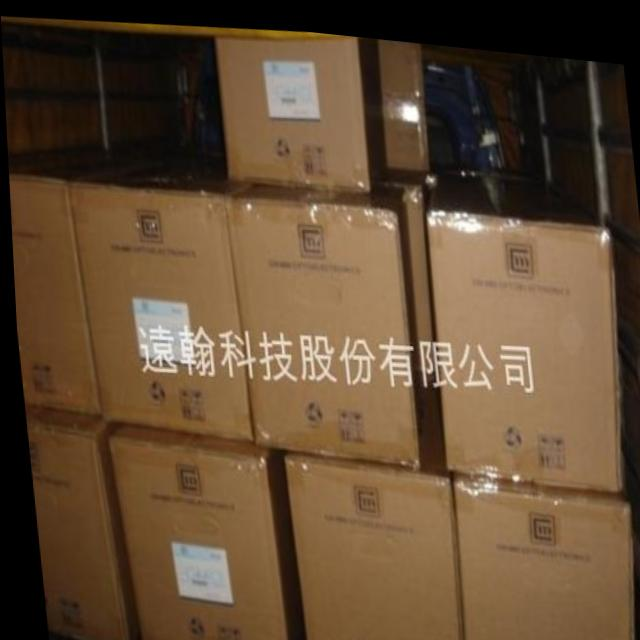box: (224, 173, 444, 464), (423, 163, 620, 481), (66, 148, 250, 438), (7, 146, 178, 418), (99, 420, 301, 640), (279, 447, 456, 640), (447, 464, 629, 640), (213, 29, 383, 188), (22, 404, 134, 640), (379, 32, 431, 176)
